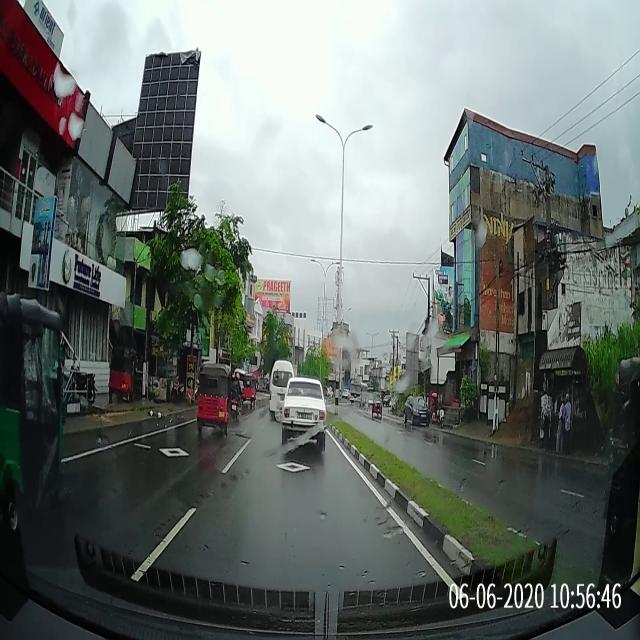diamond: (208, 448, 374, 485)
